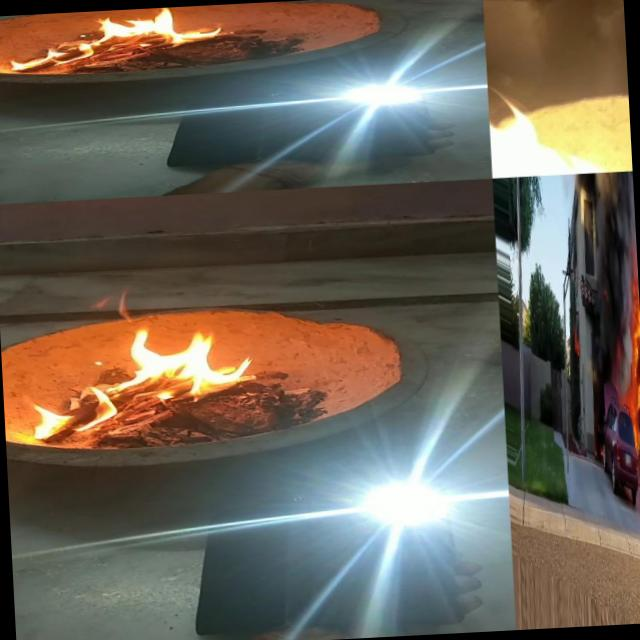fire: (25, 322, 276, 440), (486, 43, 633, 178), (6, 9, 242, 72), (625, 264, 640, 457)
smoke: (591, 172, 632, 396), (620, 171, 638, 266)
